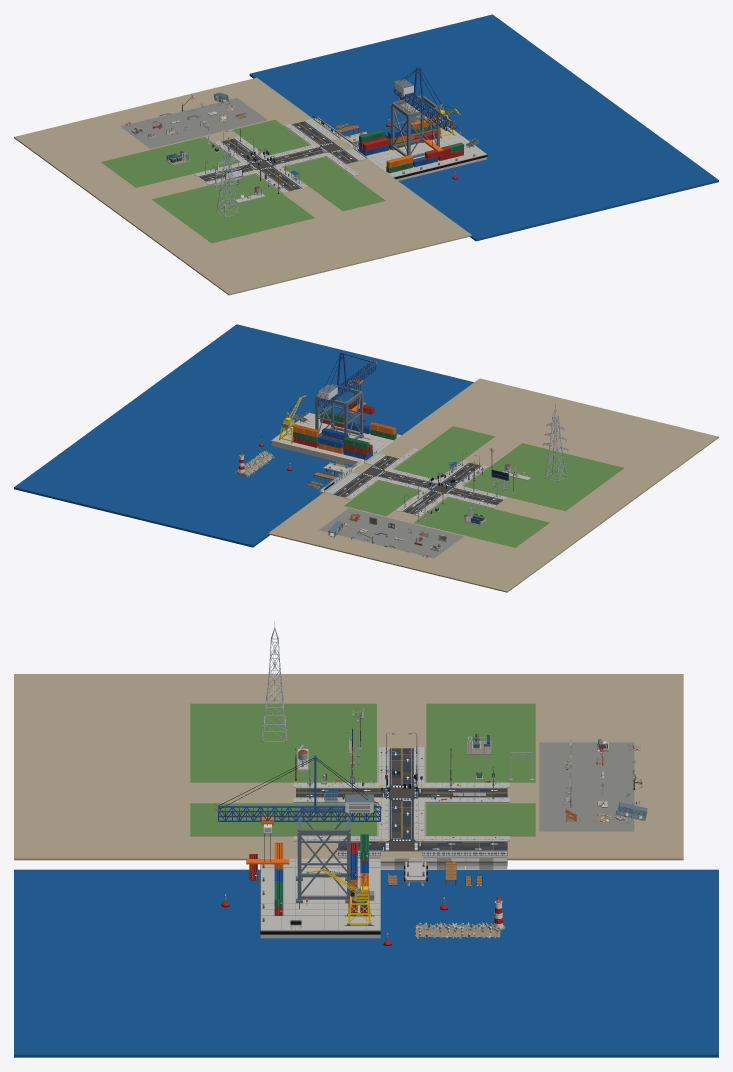
Rendered from SHOWCASE_SCENE.obj.
3 views of the same model, one above another, from view 1: azimuth 30°, elevation 25°; view 2: azimuth 150°, elevation 25°; view 3: azimuth 270°, elevation 25° (orthographic). The views are drawn at different scales.
Parts seen in each view (by area): view 1: SHOWCASE_SCENE__water, SHOWCASE_SCENE__terrain, SHOWCASE_SCENE__lawn, SHOWCASE_SCENE__quay, SHOWCASE_SCENE__HARBOR_14_1180_boom, SHOWCASE_SCENE__HARBOR_14_1172_legs; view 2: SHOWCASE_SCENE__water, SHOWCASE_SCENE__terrain, SHOWCASE_SCENE__lawn, SHOWCASE_SCENE__quay, SHOWCASE_SCENE__HARBOR_14_1180_boom, SHOWCASE_SCENE__HARBOR_14_1172_legs; view 3: SHOWCASE_SCENE__water, SHOWCASE_SCENE__terrain, SHOWCASE_SCENE__lawn, SHOWCASE_SCENE__quay, SHOWCASE_SCENE__HARBOR_14_1180_boom, SHOWCASE_SCENE__HARBOR_14_1179_brace_z.
Boxes of the visible parts, x1,y1,x2,y2 form: SHOWCASE_SCENE__water: (249,14,718,241); SHOWCASE_SCENE__terrain: (14,77,471,295); SHOWCASE_SCENE__lawn: (101,119,385,243); SHOWCASE_SCENE__quay: (356,127,486,180); SHOWCASE_SCENE__HARBOR_14_1180_boom: (394,86,452,130); SHOWCASE_SCENE__HARBOR_14_1172_legs: (391,100,439,155); SHOWCASE_SCENE__water: (14,324,473,547); SHOWCASE_SCENE__terrain: (268,378,718,592); SHOWCASE_SCENE__lawn: (344,426,624,547); SHOWCASE_SCENE__quay: (271,412,401,465); SHOWCASE_SCENE__HARBOR_14_1180_boom: (318,362,376,407); SHOWCASE_SCENE__HARBOR_14_1172_legs: (315,393,363,435); SHOWCASE_SCENE__water: (14,869,718,1057); SHOWCASE_SCENE__terrain: (14,674,683,860); SHOWCASE_SCENE__lawn: (190,703,535,836); SHOWCASE_SCENE__quay: (260,858,380,938); SHOWCASE_SCENE__HARBOR_14_1180_boom: (218,806,380,821); SHOWCASE_SCENE__HARBOR_14_1179_brace_z: (301,814,346,894).
Bounding box in the file's own units: 250 × 47.58 × 200.
